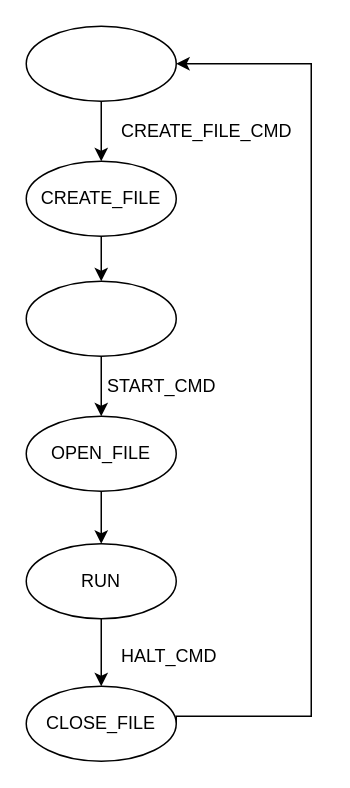
This 350x788 diagram has some shape labels left out. Each missing label, with the centre of its shape:
"FILE_LOADED" goes at point (100, 318).
"IDLE" goes at point (100, 63).
